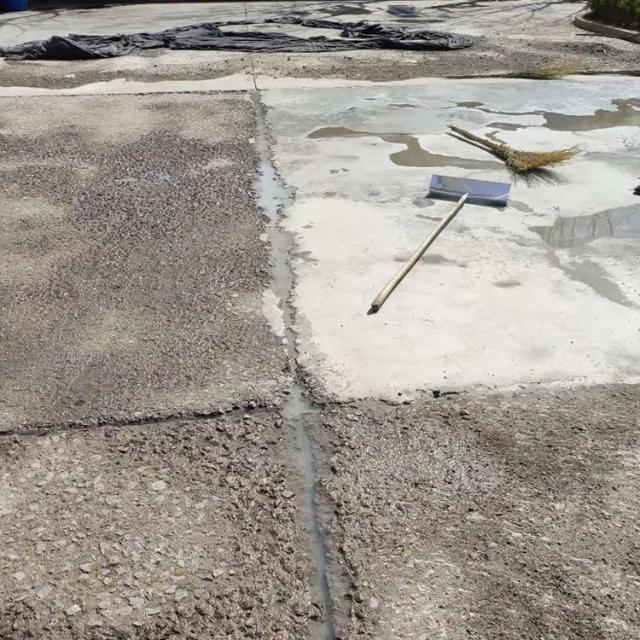Pothole: (237, 85, 372, 635)
